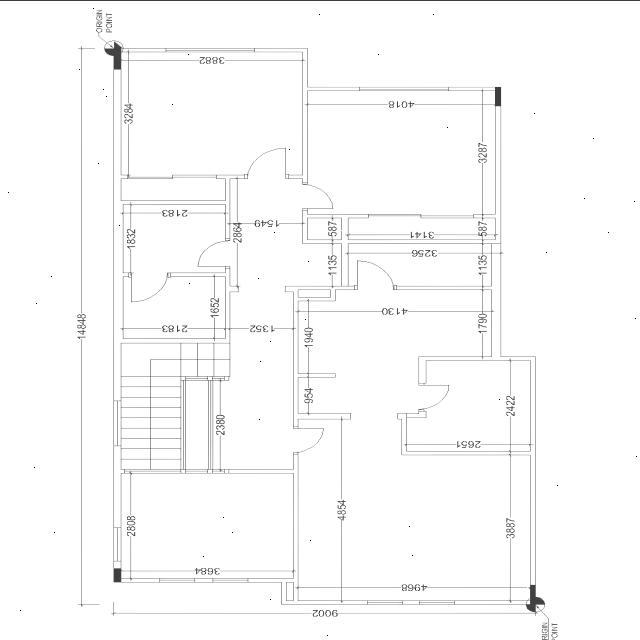Column: (114, 47, 122, 69), (530, 584, 536, 604), (495, 86, 501, 106), (114, 568, 122, 582)
Door: (244, 146, 289, 178), (354, 259, 397, 289), (128, 272, 170, 302), (198, 238, 230, 268), (302, 182, 334, 210), (293, 426, 325, 454), (418, 382, 450, 410)
Sliding Door: (368, 213, 474, 217), (127, 174, 217, 178)
Staircase: (121, 342, 230, 468)
Window: (208, 379, 213, 468), (181, 380, 186, 468), (114, 400, 122, 446), (359, 86, 449, 90), (166, 47, 256, 51), (114, 526, 122, 560), (125, 468, 182, 472), (160, 578, 196, 582), (212, 578, 248, 582), (367, 600, 403, 604), (419, 600, 455, 604), (185, 468, 208, 472), (185, 376, 208, 380), (212, 468, 225, 472), (212, 376, 225, 380)
